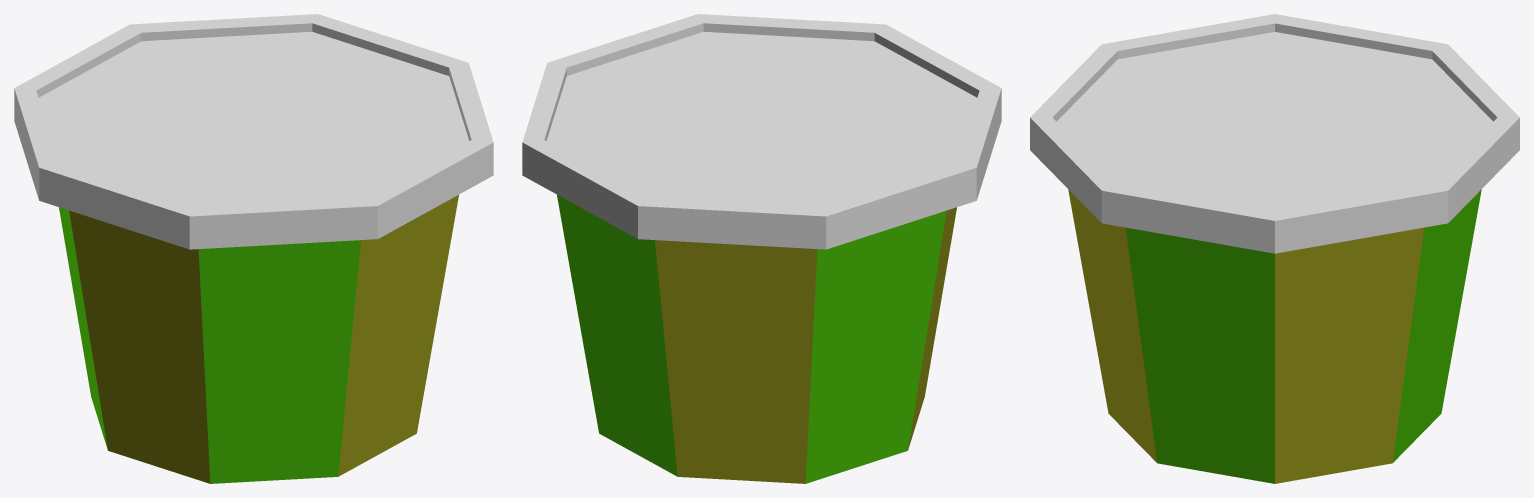
Rendered from Container.fbx.
The picture shows the model from 3 angles, left to right: view 1: azimuth 30°, elevation 25°; view 2: azimuth 150°, elevation 25°; view 3: azimuth 270°, elevation 25°; orthographic projection.
Visible parts, largest first — view 1: Container; view 2: Container; view 3: Container.
Boxes of the visible parts, x1,y1,x2,y2 form: Container: [14, 14, 493, 483]; Container: [522, 14, 1001, 483]; Container: [1030, 14, 1519, 483].
Bounding box in the file's own units: 25.88 × 17.26 × 25.88.
